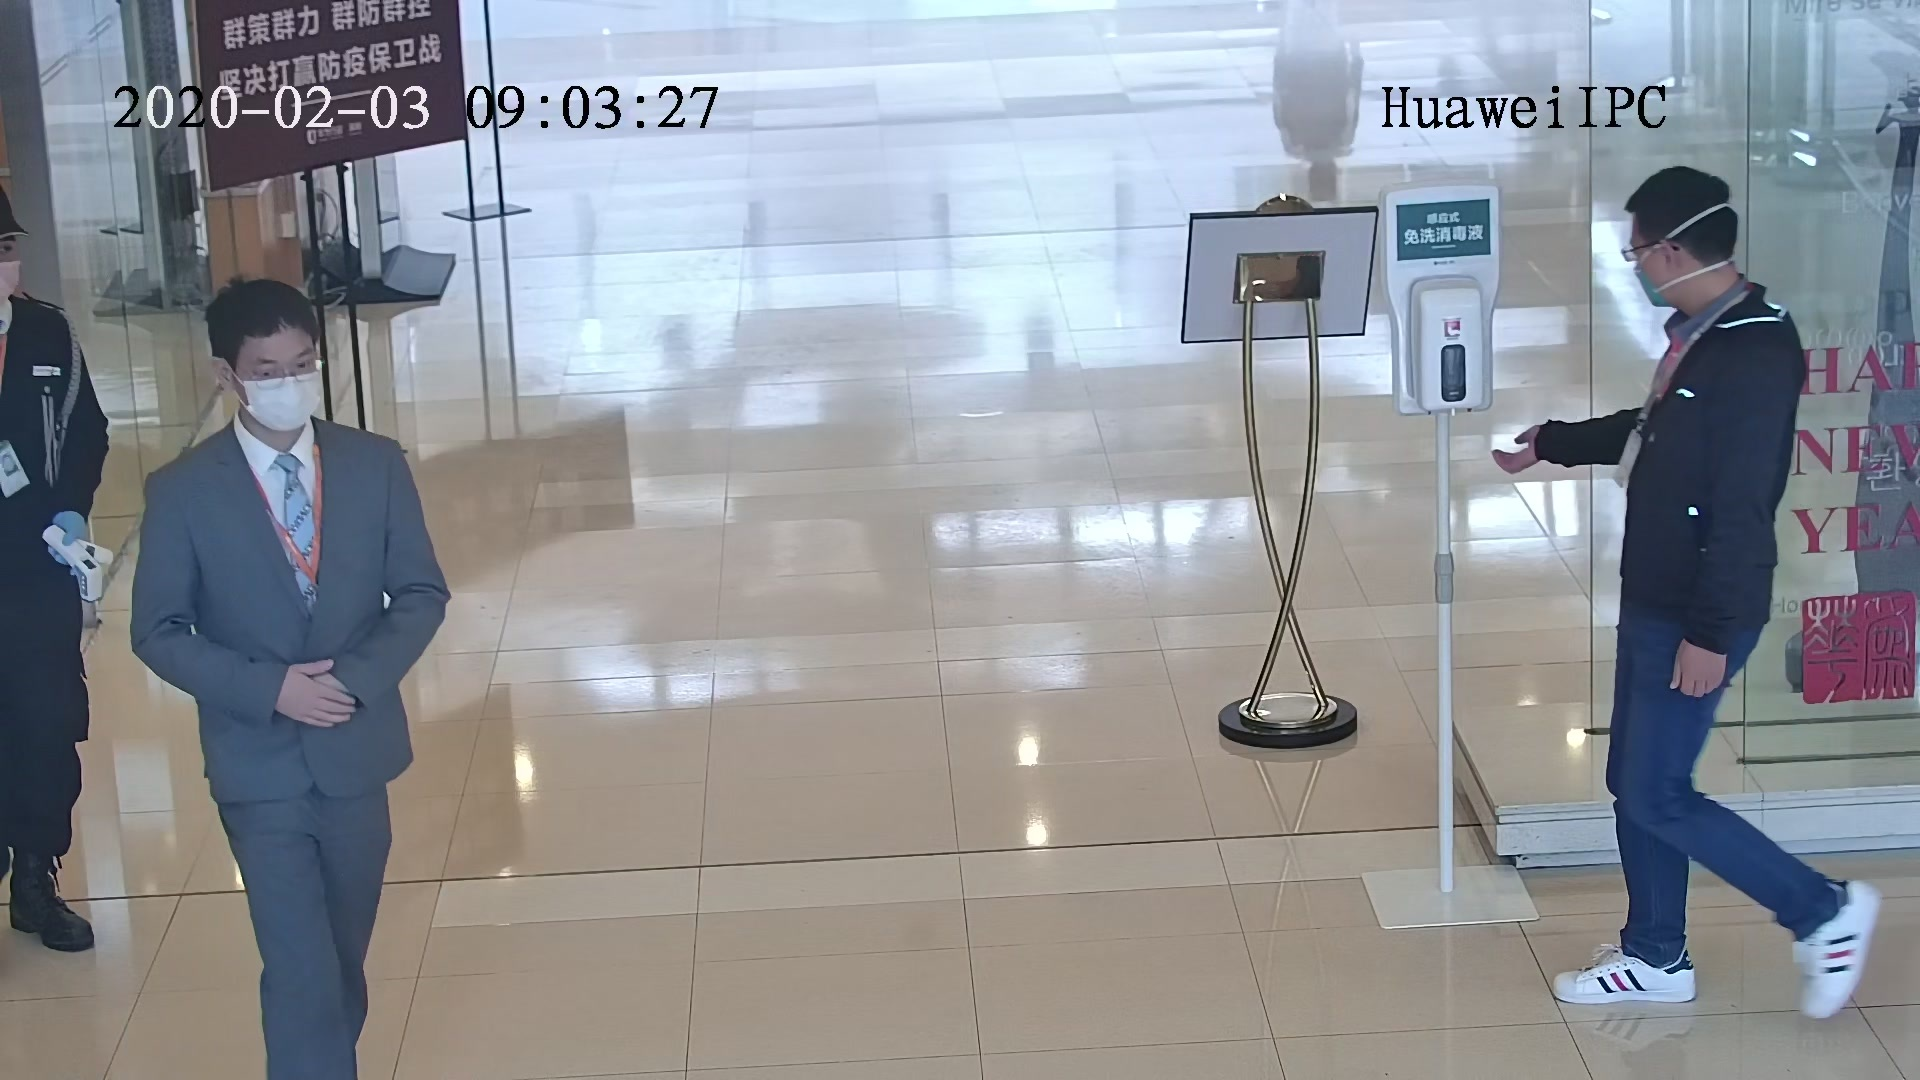face: (234, 327, 325, 437), (1622, 222, 1671, 312)
mask: (241, 368, 322, 432)
person: (139, 262, 408, 535), (1609, 159, 1805, 400), (1, 170, 81, 384)
